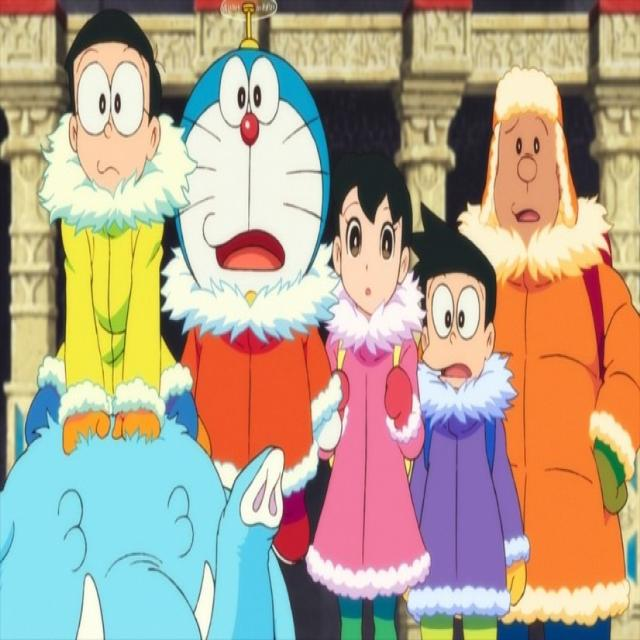doraemon: (169, 36, 334, 306)
jaian: (484, 76, 567, 244)
nobita: (63, 4, 160, 199)
shizuka: (329, 149, 409, 338)
suneo: (407, 200, 501, 406)
